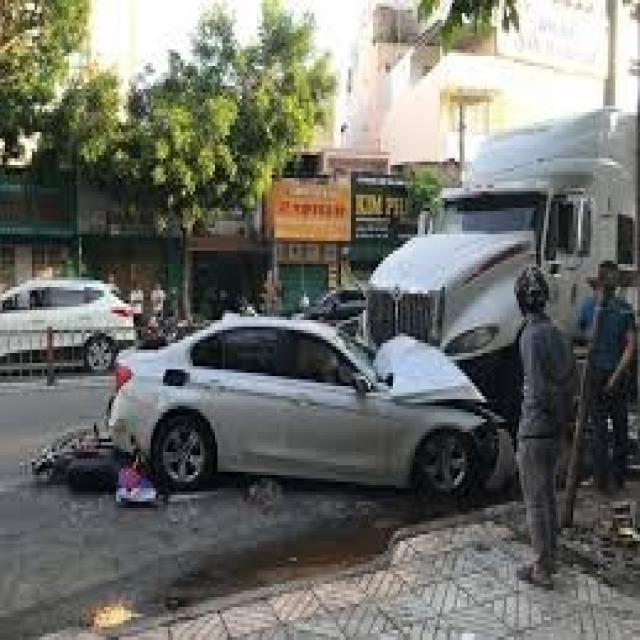accident: (93, 262, 555, 515)
